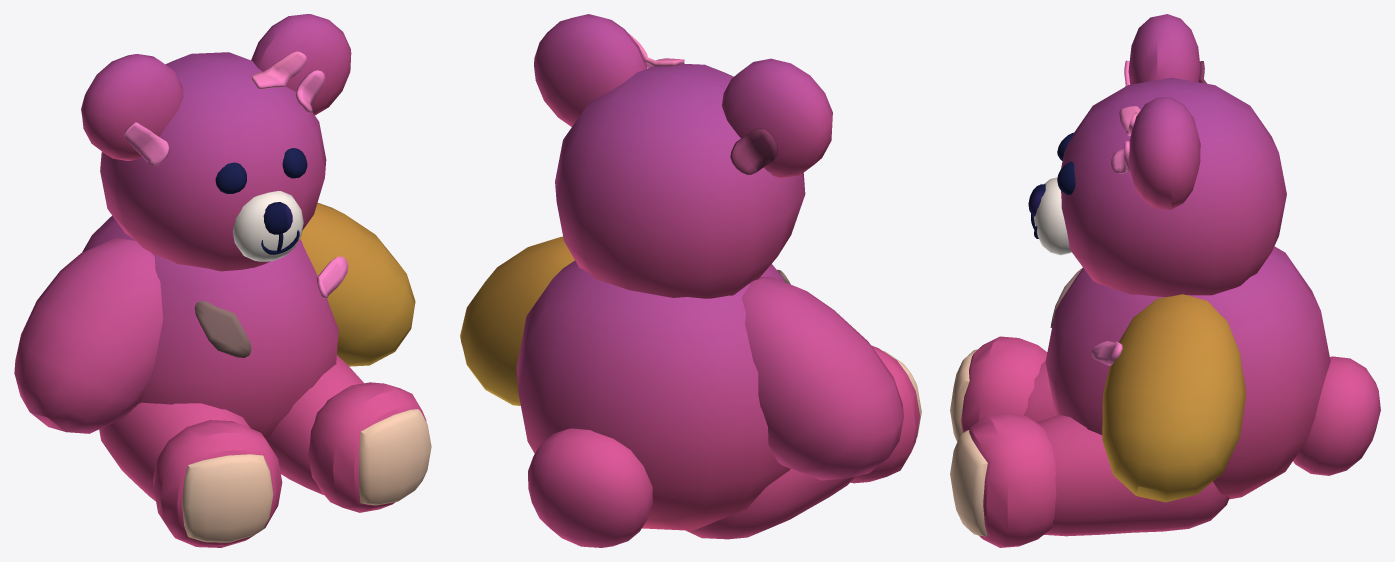
The model's file is Bear.fbx.
The picture shows the model from 3 angles, left to right: view 1: azimuth 30°, elevation 25°; view 2: azimuth 150°, elevation 25°; view 3: azimuth 270°, elevation 25°; orthographic projection. The views are drawn at different scales.
Visible parts, largest first — view 1: Bear; view 2: Bear; view 3: Bear.
Part boxes in pixels (x1,y1,x2,y2): Bear: (14, 14, 431, 547); Bear: (460, 14, 921, 547); Bear: (950, 14, 1380, 547).
Bounding box in the file's own units: 9.04 × 9.67 × 8.55.
Materials: 2 (2 with a texture image).
